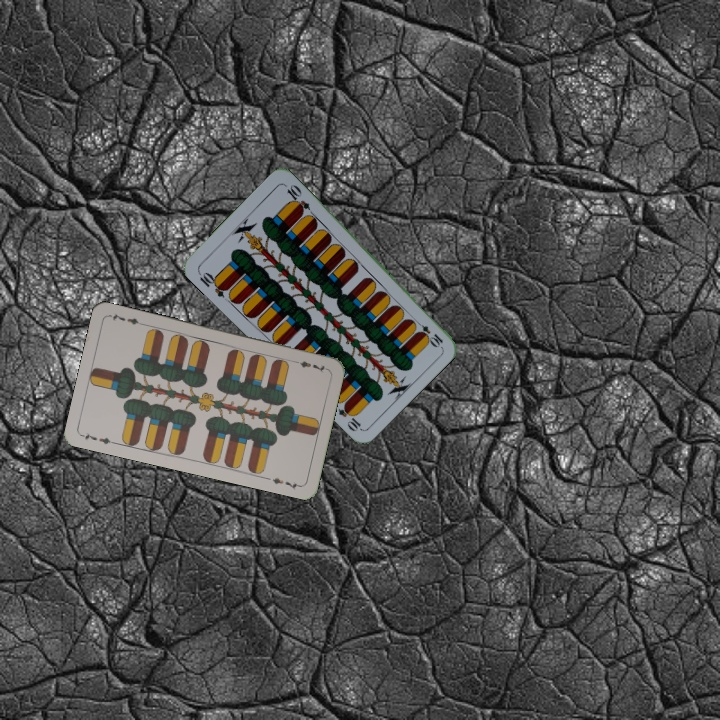E10: (410, 316, 446, 349), (194, 268, 231, 300)
E7: (289, 357, 329, 375), (78, 429, 118, 447)
